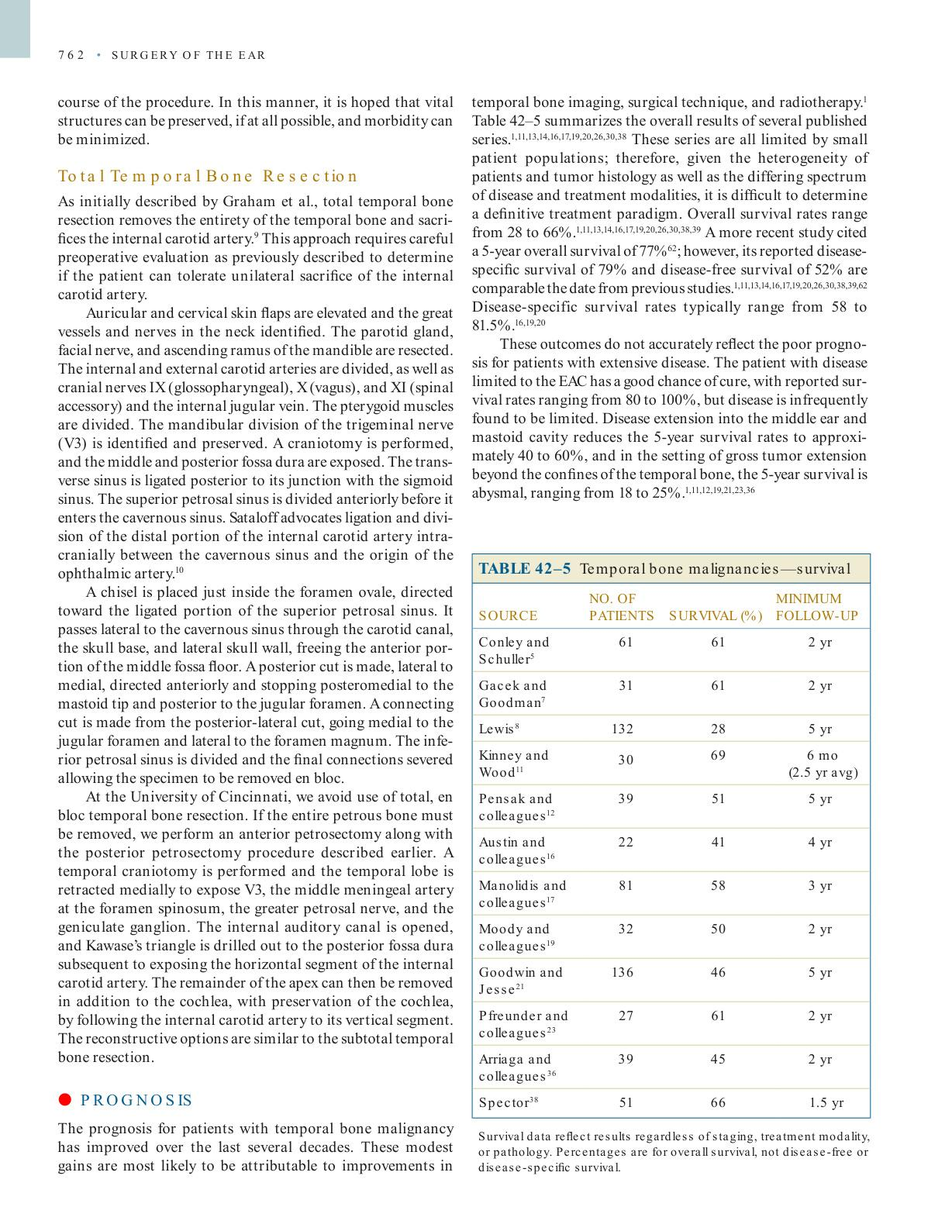caption: (476, 560, 853, 580)
header: (110, 49, 267, 61)
section-heading: (78, 1090, 193, 1109)
sub-section-heading: (56, 166, 358, 185)
table: (471, 581, 872, 1176)
text: (55, 193, 457, 1066), (469, 92, 871, 503), (56, 1120, 456, 1176), (56, 92, 454, 148)
